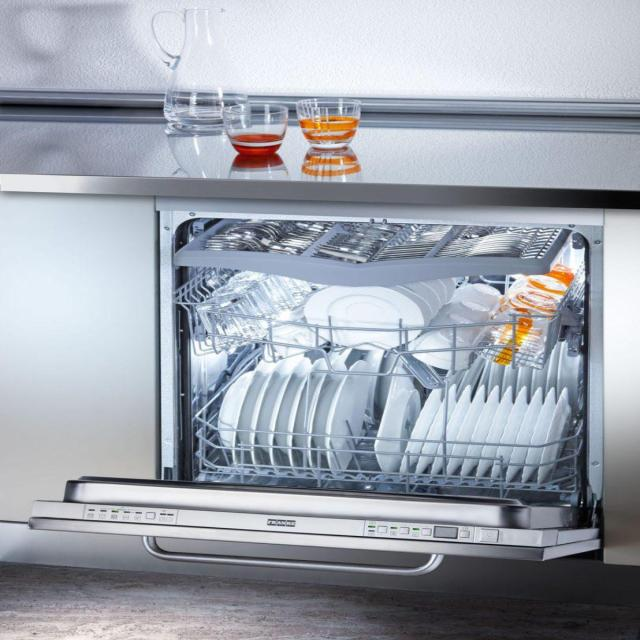dishwasher: (26, 209, 604, 581)
